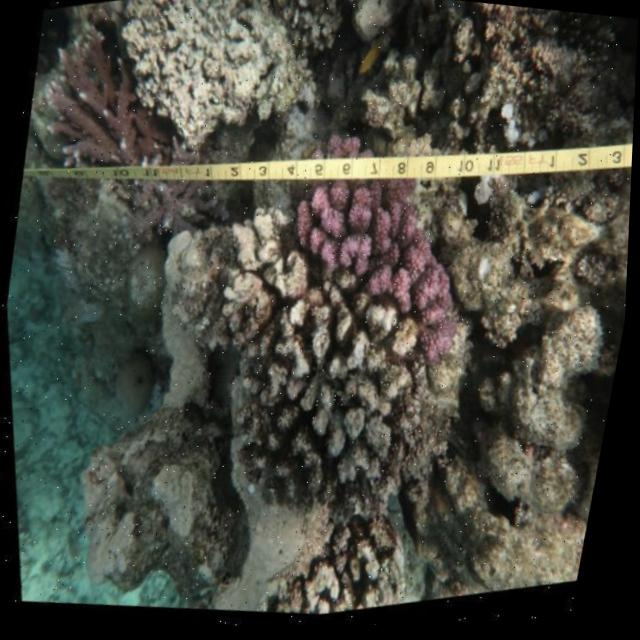Healthy Coral: (280, 162, 490, 337), (14, 7, 189, 201)
